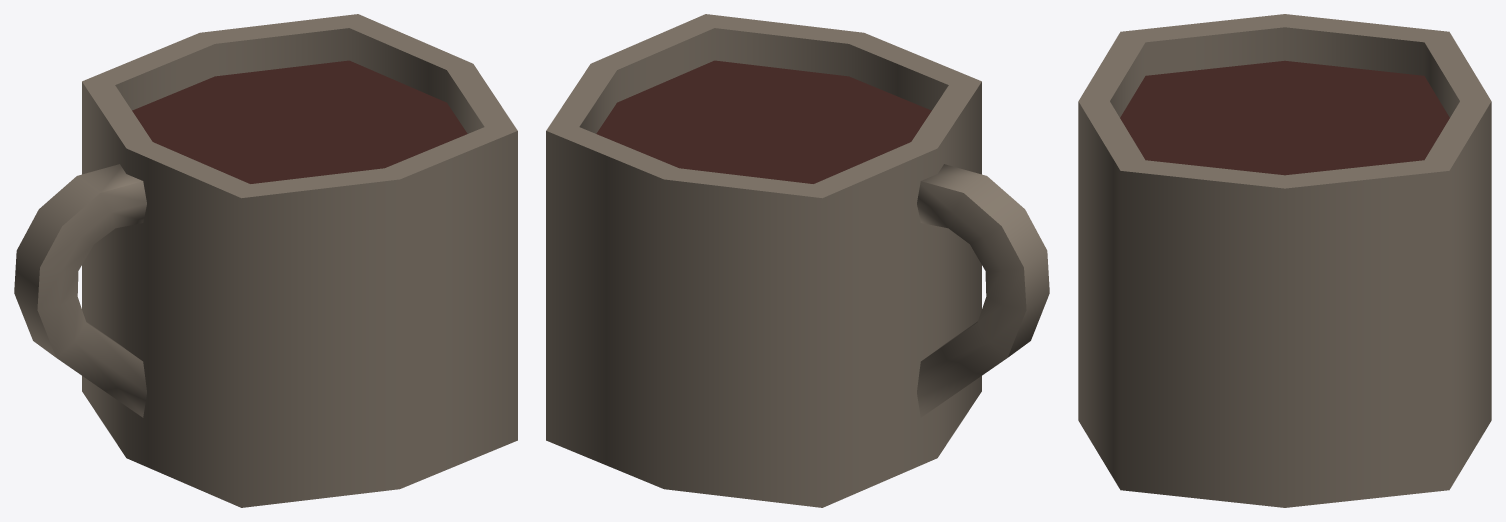
The model's file is Collectible_Coffee.fbx.
3 renders of one model, left to right at view 1: azimuth 30°, elevation 25°; view 2: azimuth 150°, elevation 25°; view 3: azimuth 270°, elevation 25°, orthographic. The views are drawn at different scales.
Parts seen in each view (by area): view 1: Collectible_Coffe; view 2: Collectible_Coffe; view 3: Collectible_Coffe.
Part boxes in pixels (x1,y1,x2,y2): Collectible_Coffe: [14, 14, 517, 507]; Collectible_Coffe: [546, 14, 1049, 507]; Collectible_Coffe: [1078, 14, 1491, 507].
Bounding box in the file's own units: 137 × 90.71 × 106.
